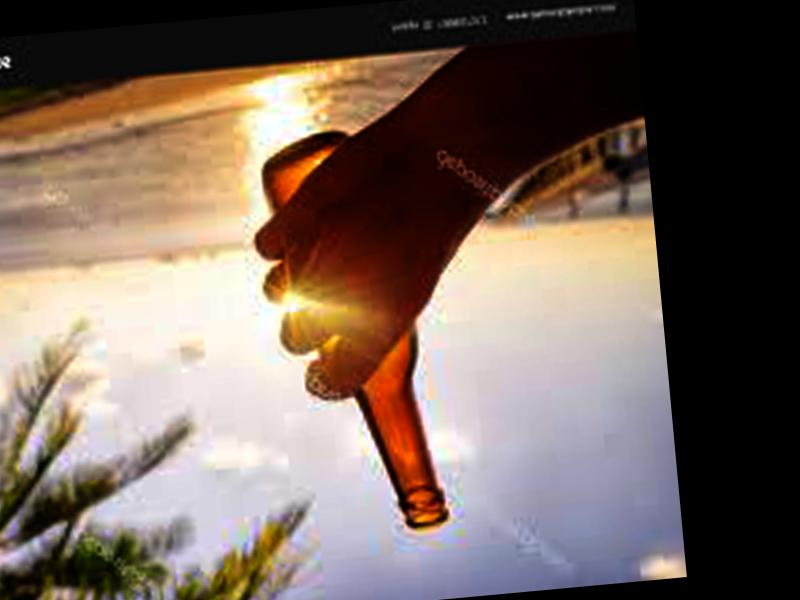Beer: (259, 124, 450, 540)
